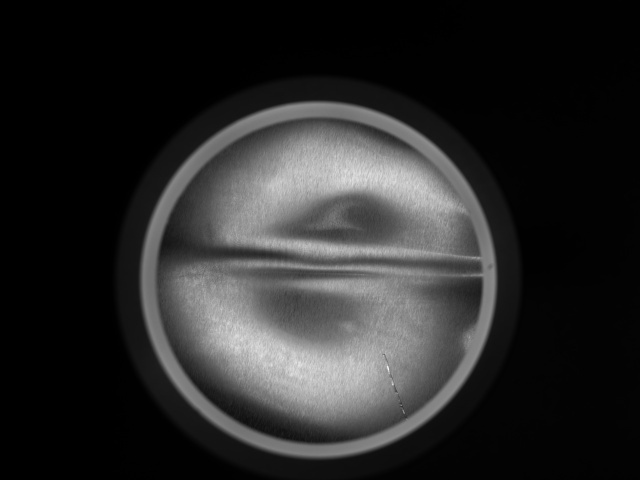zhe_zhou: (202, 140, 436, 414)
